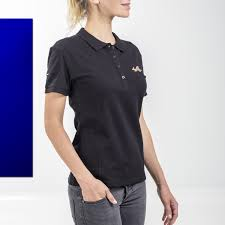C_polo shirt: (43, 31, 156, 177)
